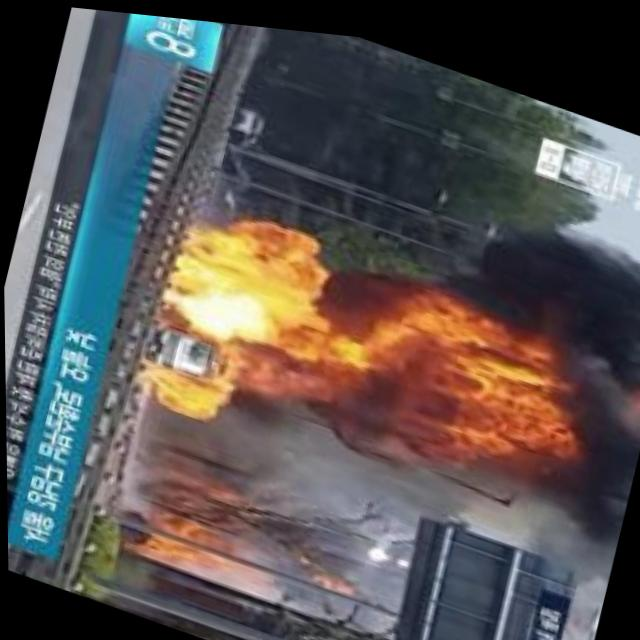Fire: (145, 182, 352, 392), (133, 334, 234, 429), (137, 527, 201, 568)
